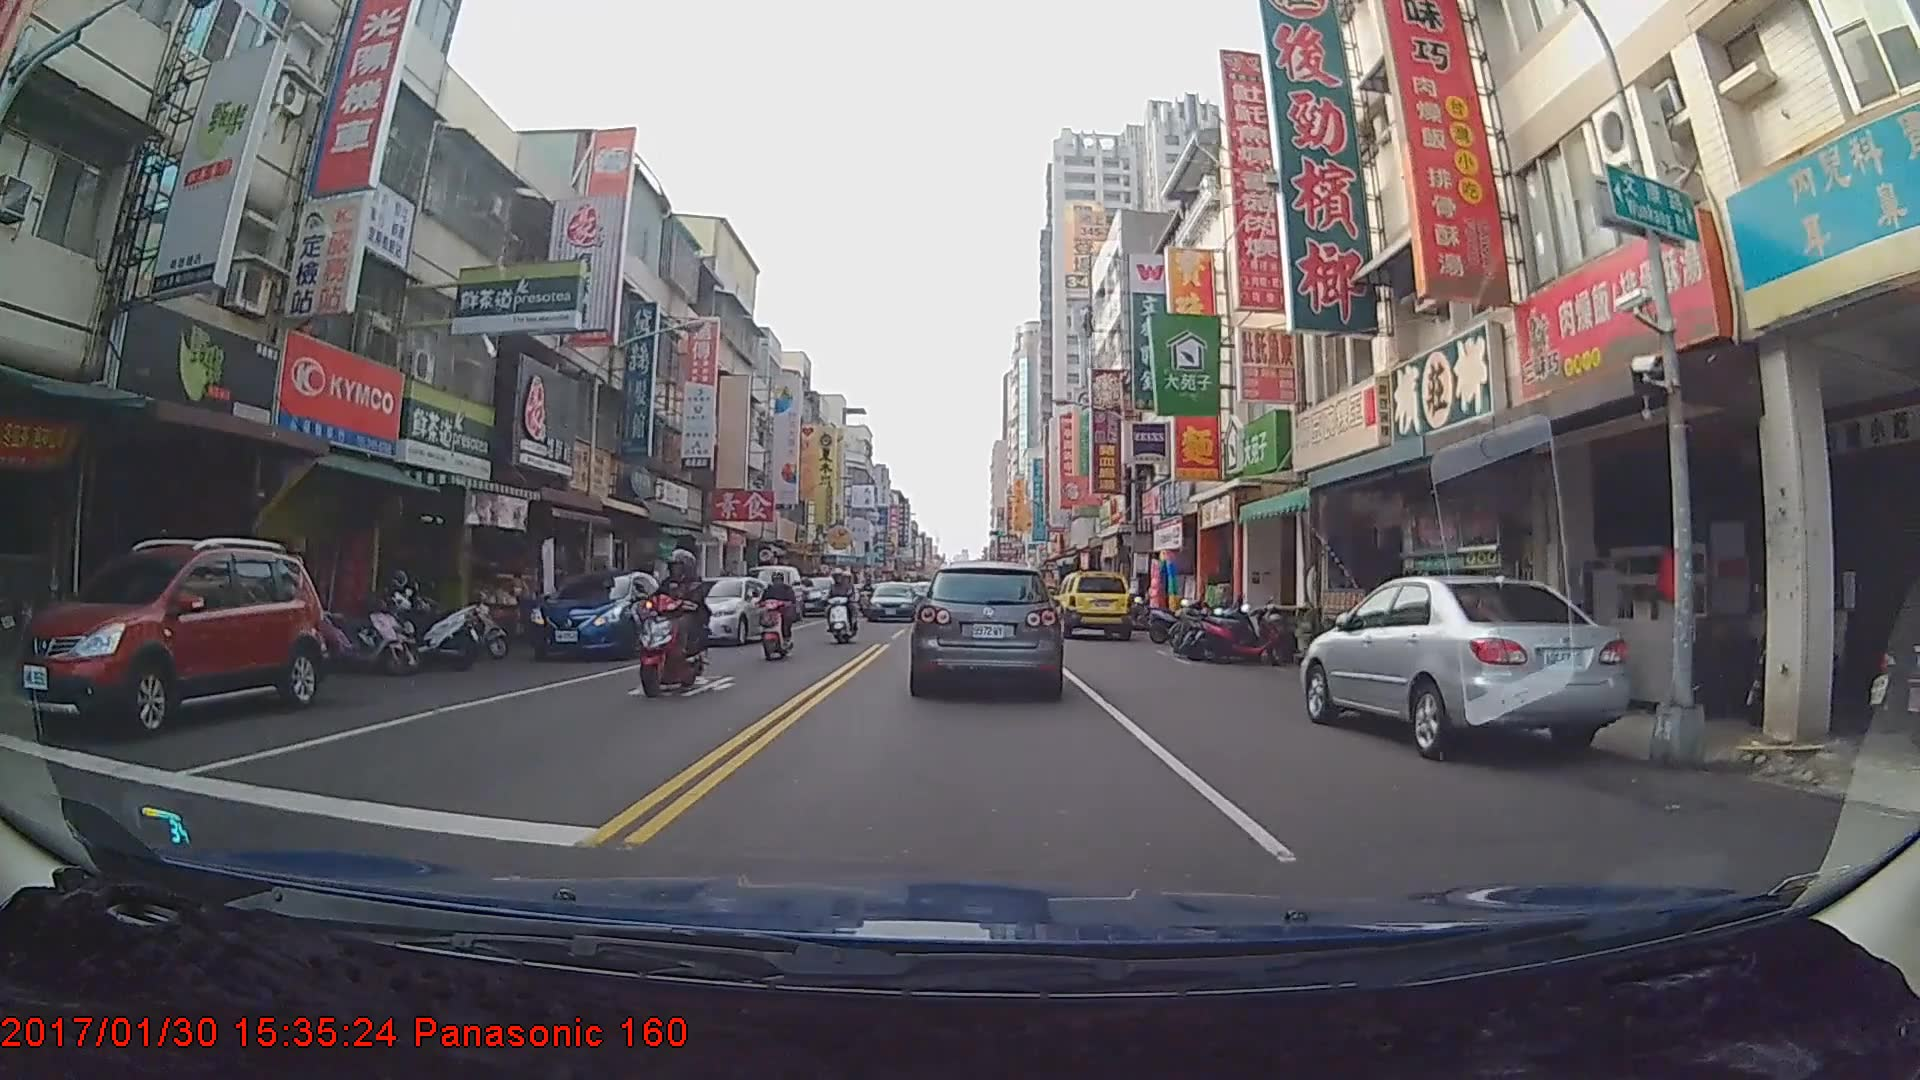rider: (634, 548, 711, 702), (755, 569, 797, 662), (820, 572, 859, 650)
vehicle: (1297, 570, 1631, 760), (14, 538, 328, 740), (909, 559, 1062, 696), (523, 569, 674, 660), (662, 574, 781, 644), (1053, 567, 1132, 639), (744, 565, 804, 622), (862, 580, 922, 622)
